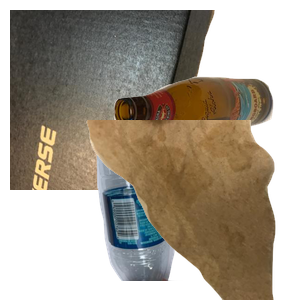cardboard: (10, 10, 217, 190)
glass: (111, 74, 300, 204)
plastic: (94, 120, 267, 300)
trash: (84, 120, 300, 300)
